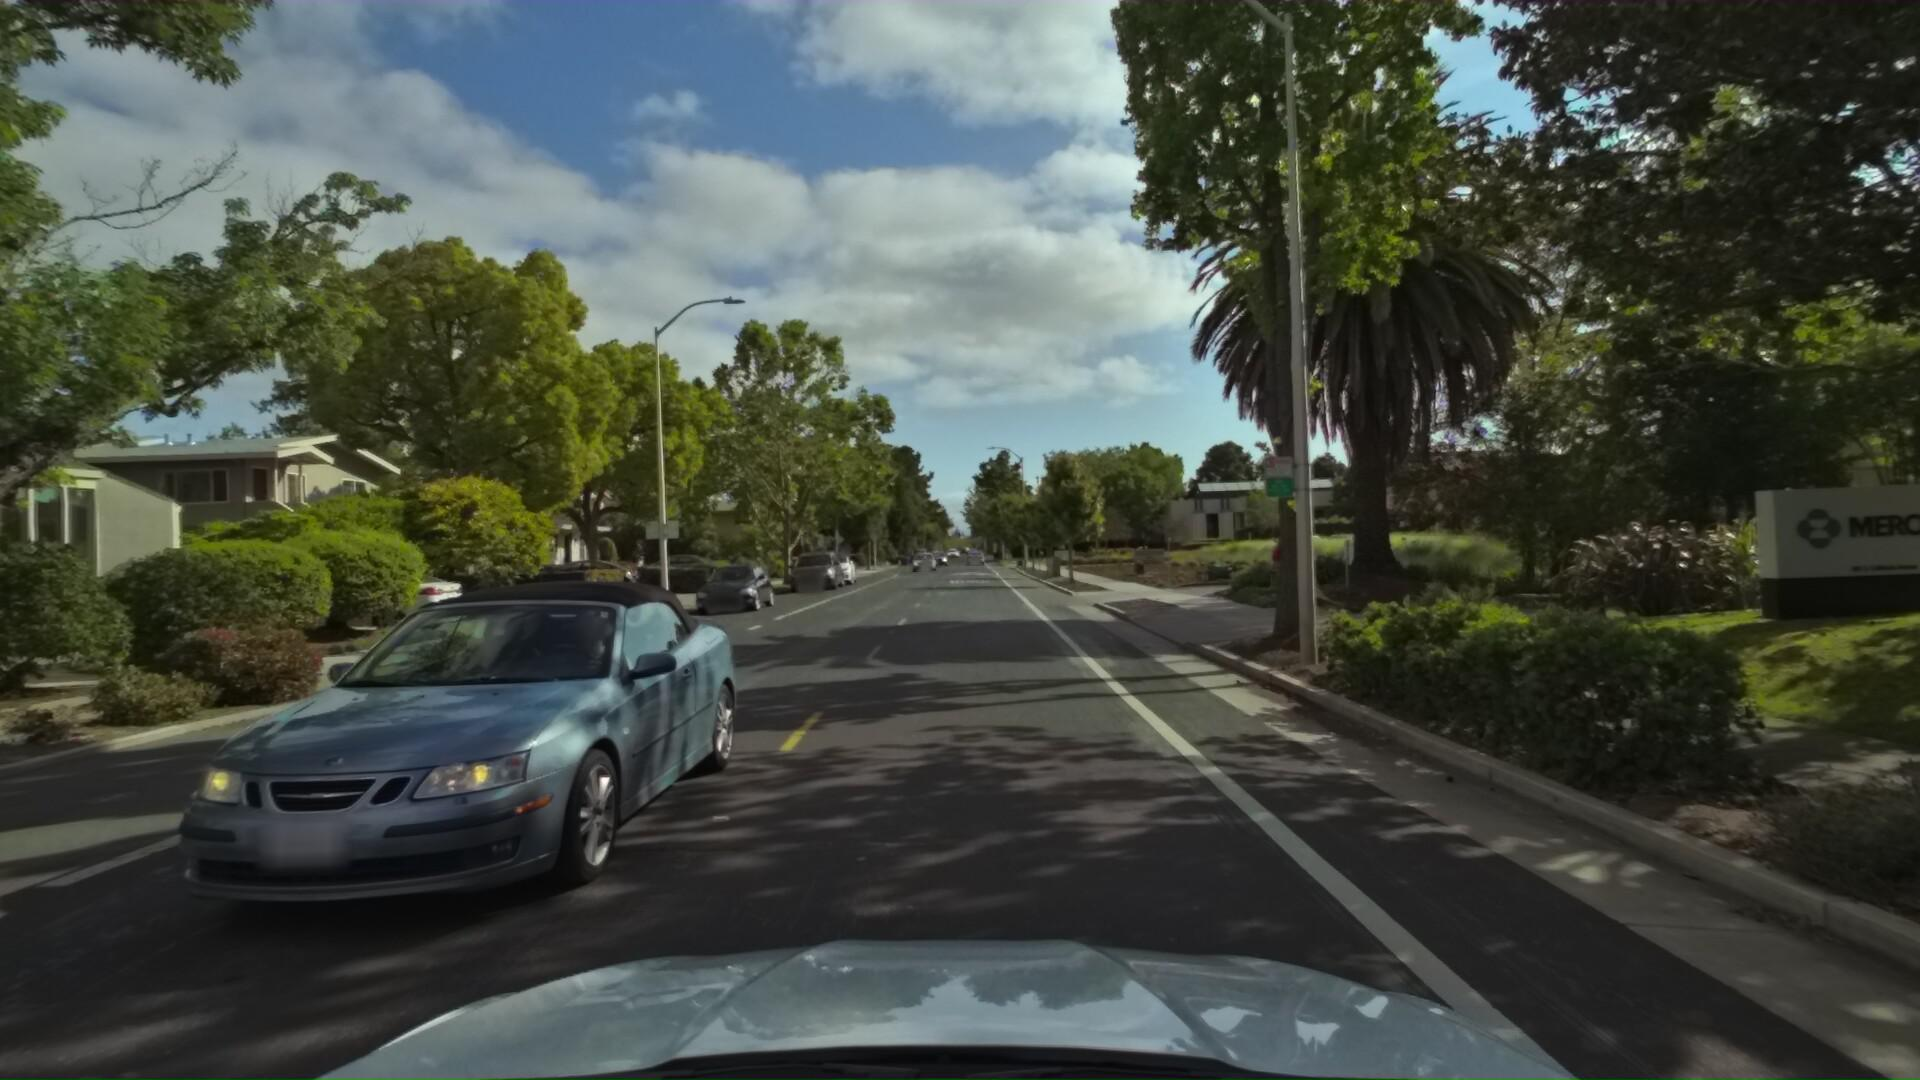car: (21, 549, 738, 982), (229, 560, 469, 640), (512, 553, 644, 600), (682, 558, 777, 618), (632, 551, 723, 584), (786, 547, 847, 596), (806, 549, 856, 587), (909, 550, 935, 572)
